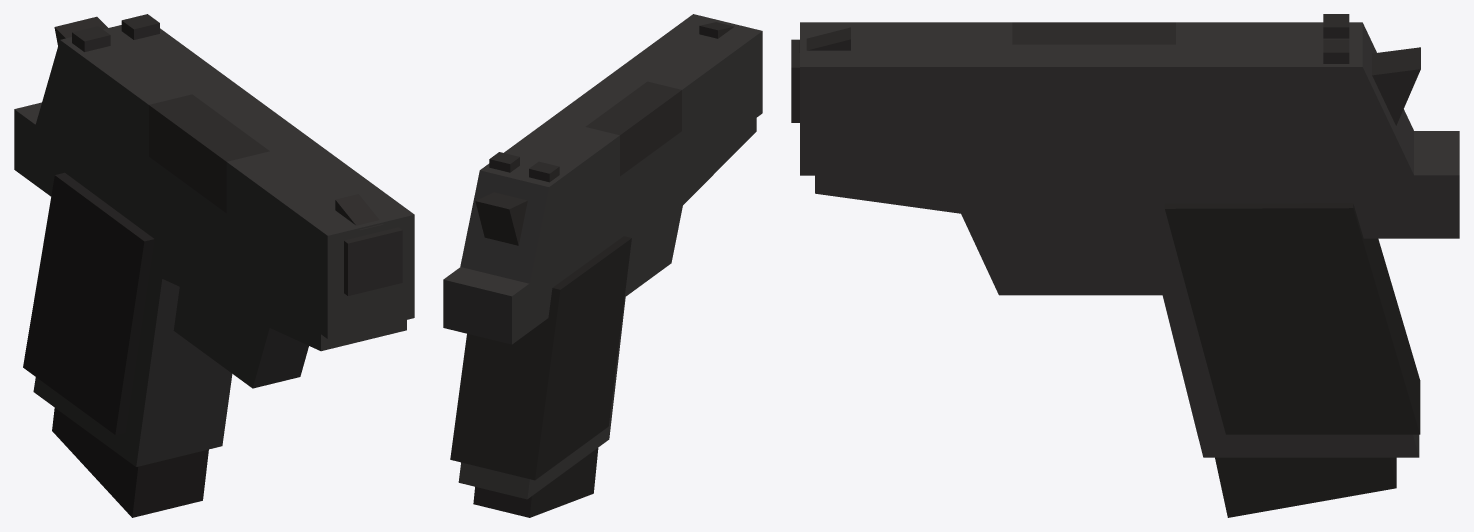
Rendered from PistolWPP.FBX.
The picture shows the model from 3 angles, left to right: view 1: azimuth 30°, elevation 25°; view 2: azimuth 150°, elevation 25°; view 3: azimuth 270°, elevation 25°; orthographic projection. The views are drawn at different scales.
Visible parts, largest first — view 1: PistolWPP, PistolWPP_slide, PistolWPP_mag; view 2: PistolWPP, PistolWPP_slide, PistolWPP_mag; view 3: PistolWPP, PistolWPP_slide, PistolWPP_mag.
Boxes of the visible parts, bbox=[...] form: PistolWPP: bbox=[14, 102, 406, 466]; PistolWPP_slide: bbox=[35, 14, 414, 338]; PistolWPP_mag: bbox=[52, 408, 208, 517]; PistolWPP: bbox=[443, 118, 756, 499]; PistolWPP_slide: bbox=[460, 14, 762, 283]; PistolWPP_mag: bbox=[473, 448, 598, 517]; PistolWPP: bbox=[791, 39, 1459, 457]; PistolWPP_slide: bbox=[799, 14, 1420, 175]; PistolWPP_mag: bbox=[1215, 457, 1396, 517].
Size of the model in its own units: 7.01 by 36.28 by 27.94.
